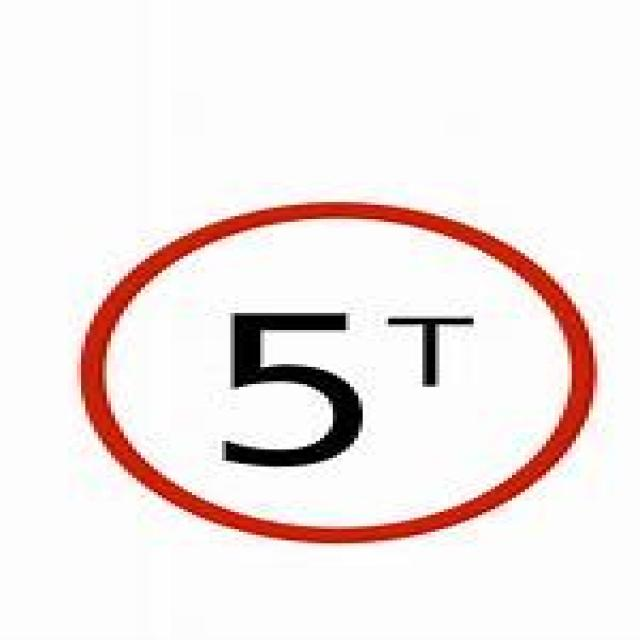load_limit: (73, 199, 593, 541)
